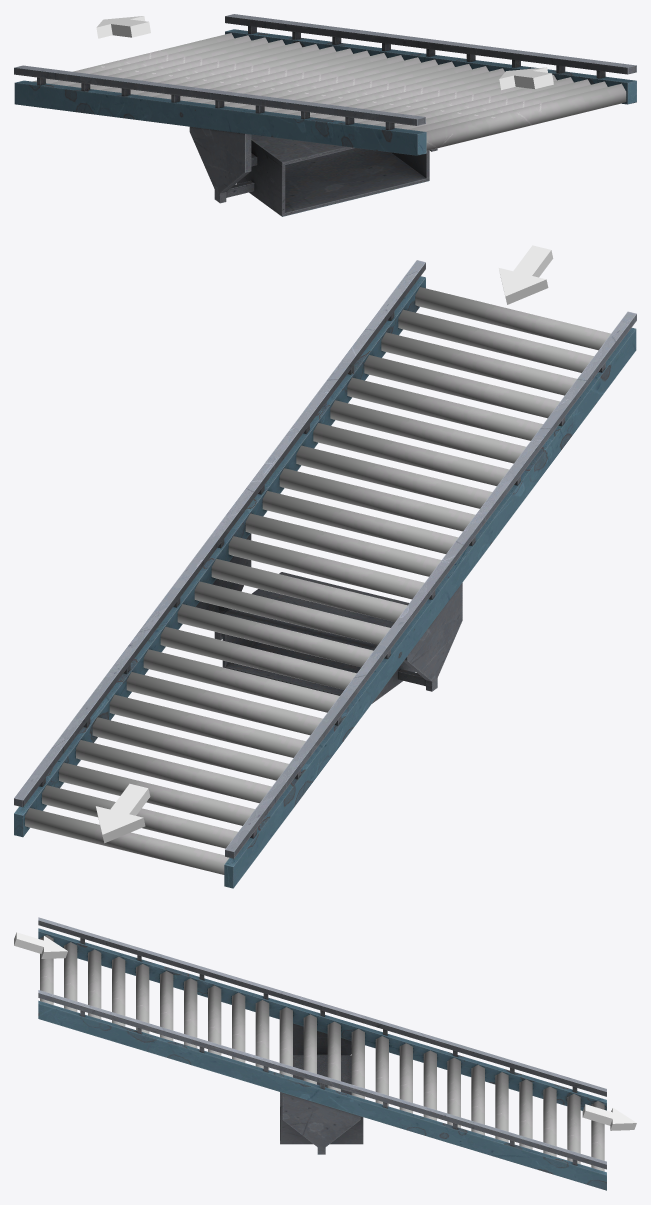
File: RollerConveyor_down.glb
3 renders of one model, top to bottom at view 1: azimuth 30°, elevation 25°; view 2: azimuth 150°, elevation 25°; view 3: azimuth 270°, elevation 25°, orthographic. The views are drawn at different scales.
Visible parts, largest first — view 1: RollerConveyor_down, ghostarrow (1), ghostarrow; view 2: RollerConveyor_down, ghostarrow (1), ghostarrow; view 3: RollerConveyor_down, ghostarrow (1), ghostarrow.
Boxes of the visible parts, left/top/right/bottom form: RollerConveyor_down: left=14, top=14, right=636, bottom=216; ghostarrow (1): left=96, top=16, right=150, bottom=38; ghostarrow: left=499, top=67, right=553, bottom=90; RollerConveyor_down: left=14, top=260, right=636, bottom=888; ghostarrow (1): left=96, top=783, right=150, bottom=843; ghostarrow: left=498, top=245, right=553, bottom=304; RollerConveyor_down: left=38, top=917, right=606, bottom=1190; ghostarrow (1): left=582, top=1104, right=636, bottom=1130; ghostarrow: left=14, top=932, right=67, bottom=958.
Size of the model in its own units: 0.9463 by 1.27 by 3.29.
3 materials, 2 textured.
